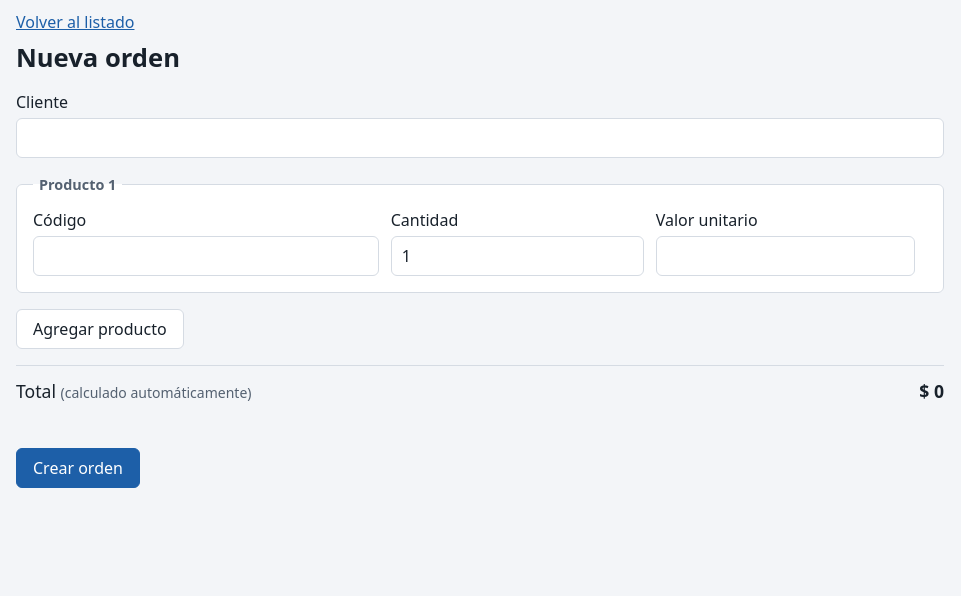
Test: NuevaOrden › oculta el error de un campo cuando el usuario lo corrige
Click the button with test id "btn-crear-orden" at coordinates (78, 468), box [16,448,140,488]
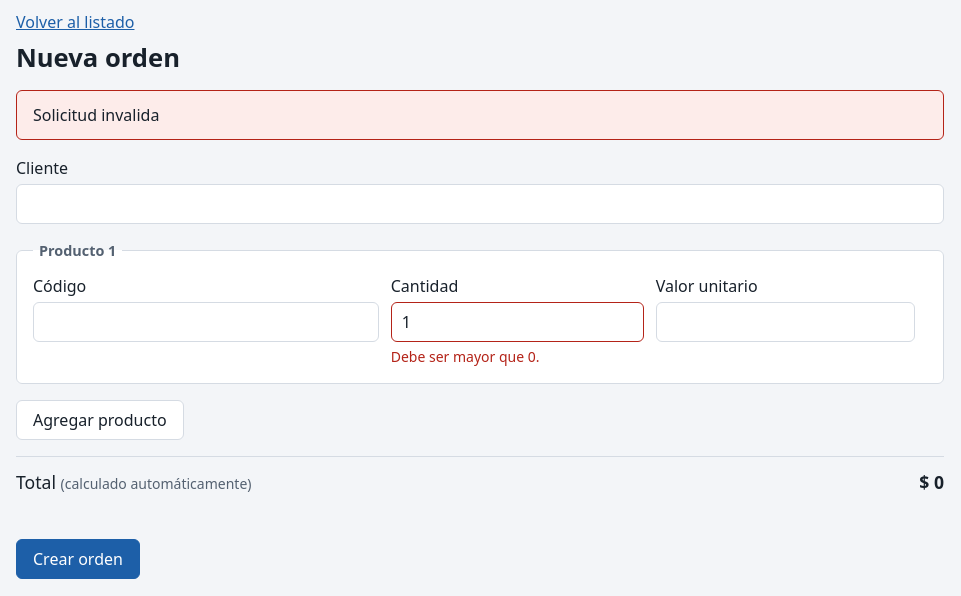
Now the text "Debe ser mayor que 0." is shown, box [391,347,540,366]
Type "5" into the field with test id "input-cantidad-0" at coordinates (517, 322), box [391,302,644,342]
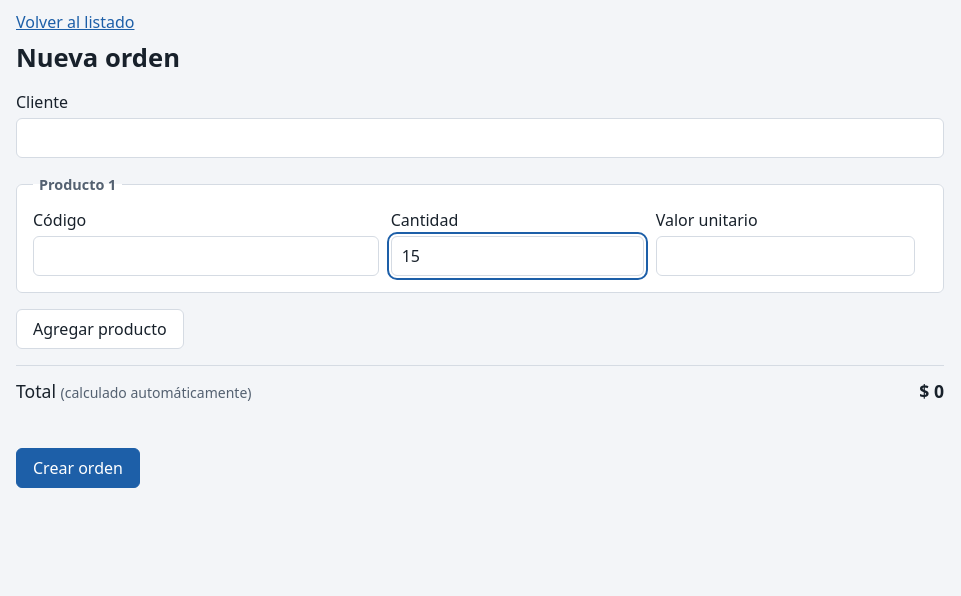
Now the text "Debe ser mayor que 0." is gone
Now the message with test id "mensaje-error" is gone
